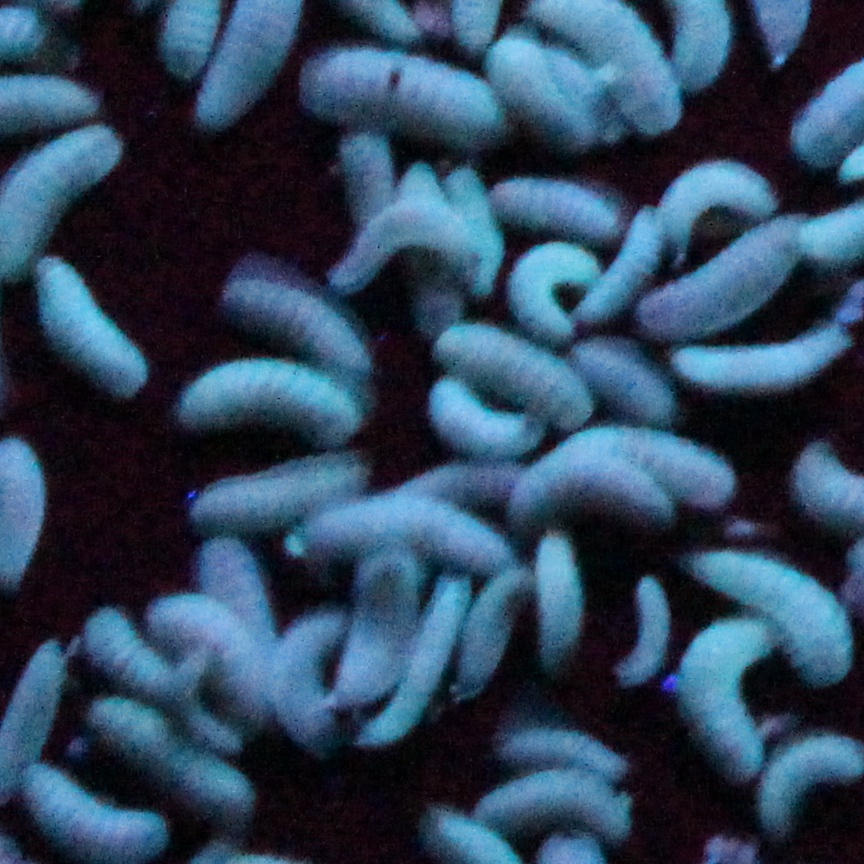larve: (294, 51, 505, 155), (640, 219, 822, 334), (89, 700, 250, 820), (321, 188, 488, 285), (35, 265, 149, 400), (681, 617, 769, 791), (446, 328, 589, 431), (226, 278, 366, 377), (184, 370, 363, 447), (206, 451, 363, 531), (157, 598, 262, 715), (312, 506, 507, 568), (650, 163, 773, 260), (467, 771, 633, 842), (591, 429, 738, 501), (339, 548, 399, 702), (272, 608, 338, 746), (462, 570, 535, 686), (488, 179, 622, 242), (81, 608, 171, 701), (766, 739, 863, 825), (426, 386, 538, 457), (591, 213, 666, 316), (574, 340, 678, 413), (669, 348, 849, 390), (499, 718, 631, 773), (508, 248, 587, 333), (536, 537, 583, 676), (611, 580, 677, 676), (408, 578, 451, 704), (524, 478, 666, 515)
